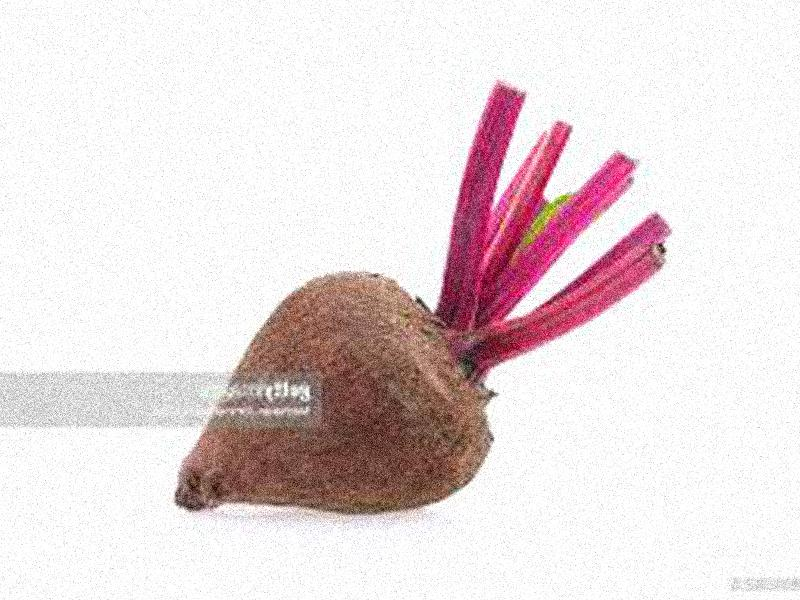Beet: (174, 82, 671, 512)
